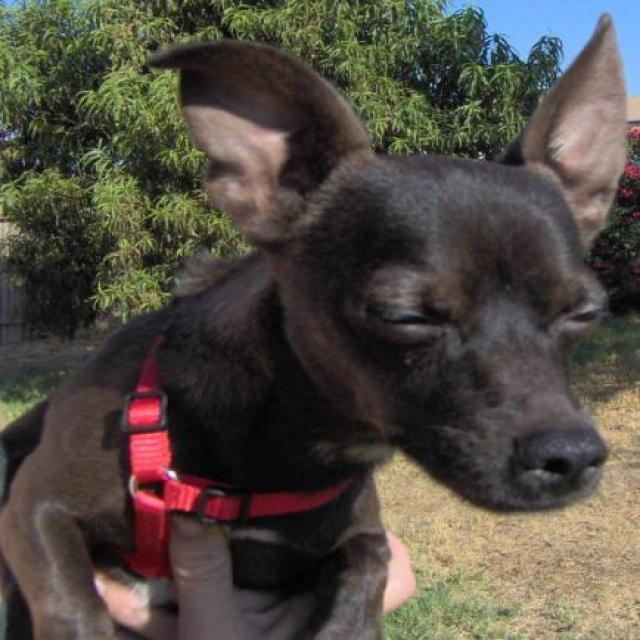Dogs: (0, 11, 630, 638)
